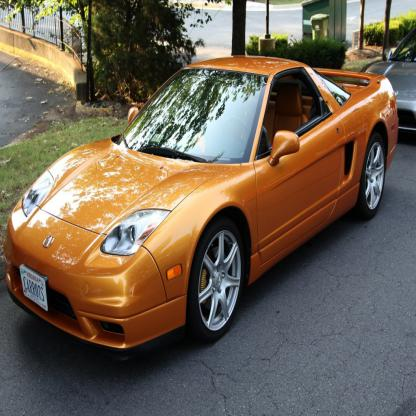Car: (4, 55, 398, 362), (360, 29, 416, 134)
